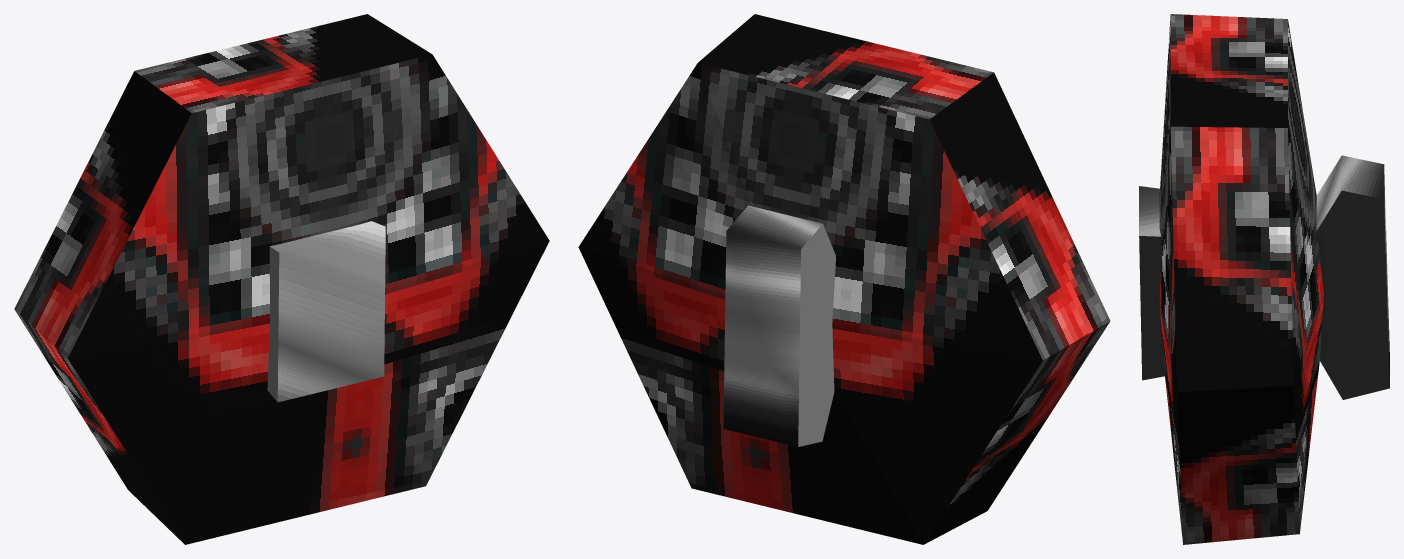
File: nailgrenade.glb
The picture shows the model from 3 angles, left to right: view 1: azimuth 30°, elevation 25°; view 2: azimuth 150°, elevation 25°; view 3: azimuth 270°, elevation 25°; orthographic projection. The views are drawn at different scales.
Parts seen in each view (by area): view 1: ngrenade.mdl; view 2: ngrenade.mdl; view 3: ngrenade.mdl.
Part boxes in pixels (x1,y1,x2,y2): ngrenade.mdl: (14,14,549,544); ngrenade.mdl: (578,14,1110,544); ngrenade.mdl: (1139,14,1389,544).
Bounding box in the file's own units: 16.47 × 14.25 × 7.74.
Materials: 4 (4 with a texture image).
